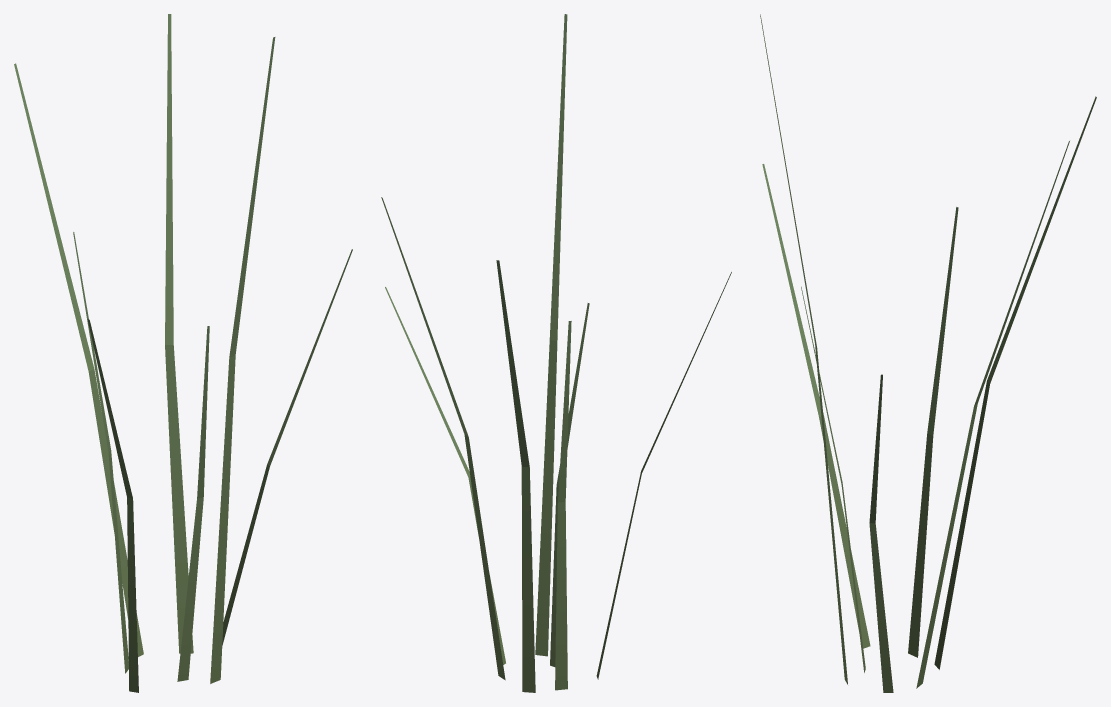
File: shi-daze-wet-field-vegetation-v1-stalk-lod1.fbx
3 renders of one model, left to right at view 1: azimuth 30°, elevation 25°; view 2: azimuth 150°, elevation 25°; view 3: azimuth 270°, elevation 25°, orthographic. The views are drawn at different scales.
Visible parts, largest first — view 1: SM_SHI_FieldStalkClump_01_LOD1; view 2: SM_SHI_FieldStalkClump_01_LOD1; view 3: SM_SHI_FieldStalkClump_01_LOD1.
Boxes of the visible parts, x1,y1,x2,y2 form: SM_SHI_FieldStalkClump_01_LOD1: [14, 14, 352, 692]; SM_SHI_FieldStalkClump_01_LOD1: [381, 14, 731, 692]; SM_SHI_FieldStalkClump_01_LOD1: [760, 14, 1096, 692].
Bounding box in the file's own units: 68 × 135 × 61.
